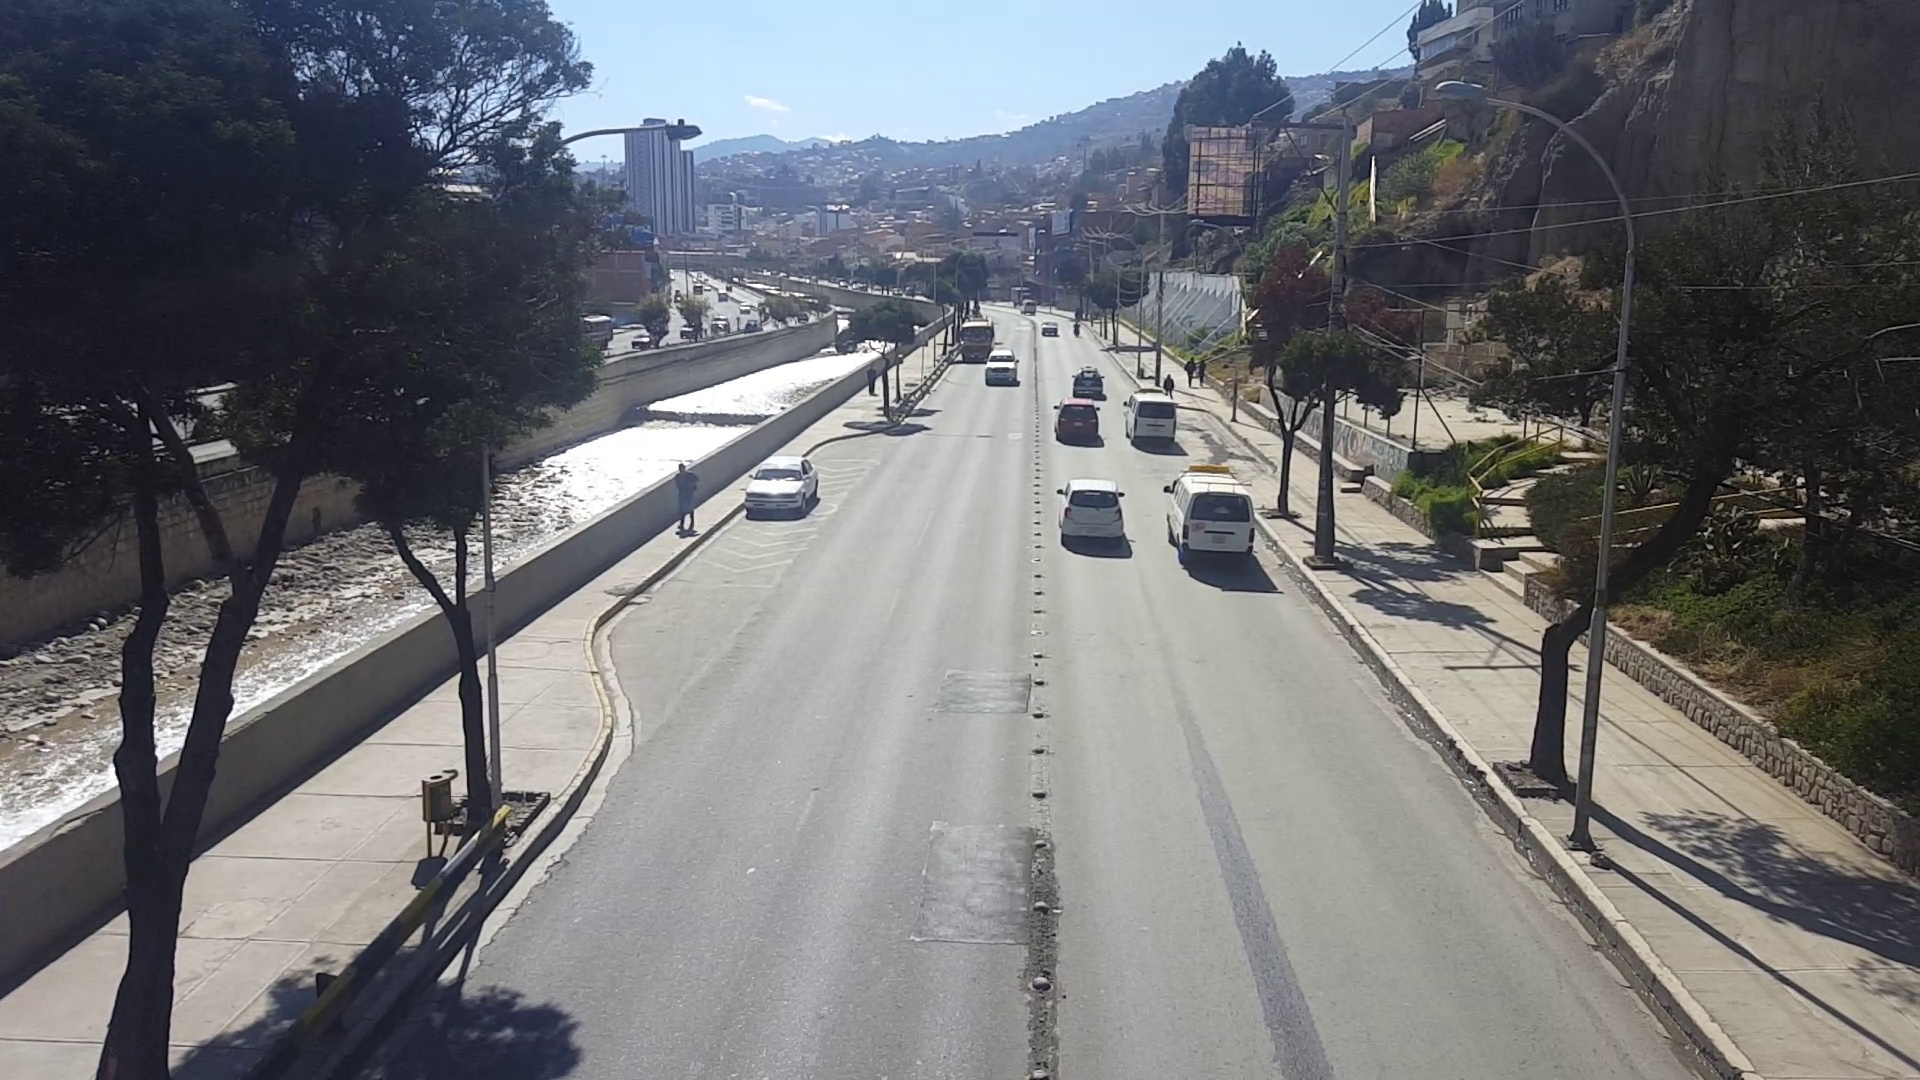automovil: (1054, 479, 1127, 543)
minibus: (1164, 468, 1258, 558), (1127, 386, 1179, 444)
